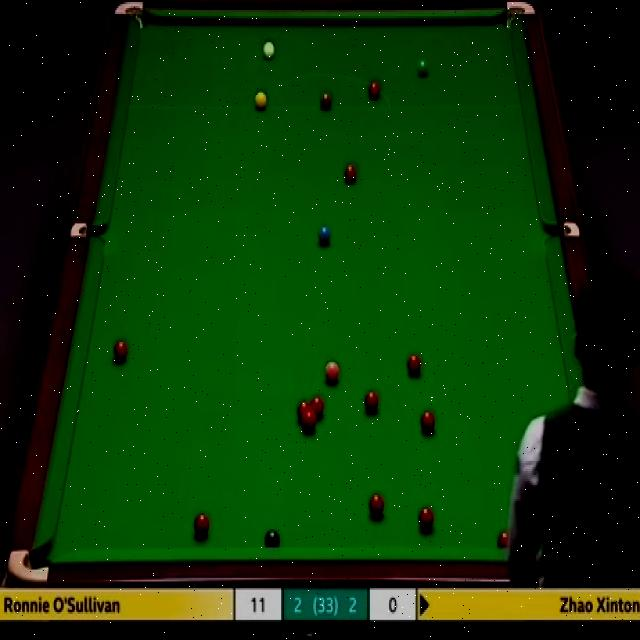black-ball: (264, 526, 281, 549)
blue-ball: (317, 223, 331, 247)
brown-ball: (318, 89, 332, 112)
green-ball: (414, 59, 430, 78)
pink-ball: (325, 357, 340, 384)
red-ball: (111, 338, 129, 365), (406, 351, 422, 380), (417, 506, 434, 533), (368, 492, 385, 518), (419, 407, 435, 433), (363, 389, 379, 415), (194, 511, 210, 537), (343, 162, 358, 186), (310, 396, 324, 421), (297, 400, 310, 421), (303, 412, 316, 432), (498, 528, 511, 548), (368, 80, 380, 99)
white-ball: (262, 40, 276, 62)
yellow-ball: (253, 90, 267, 110)
